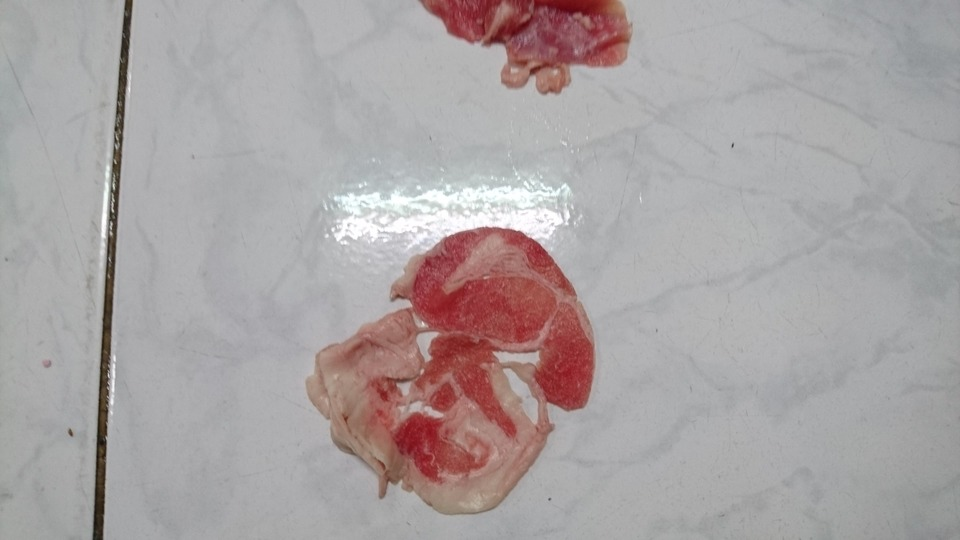restructured meat: (305, 225, 595, 517)
